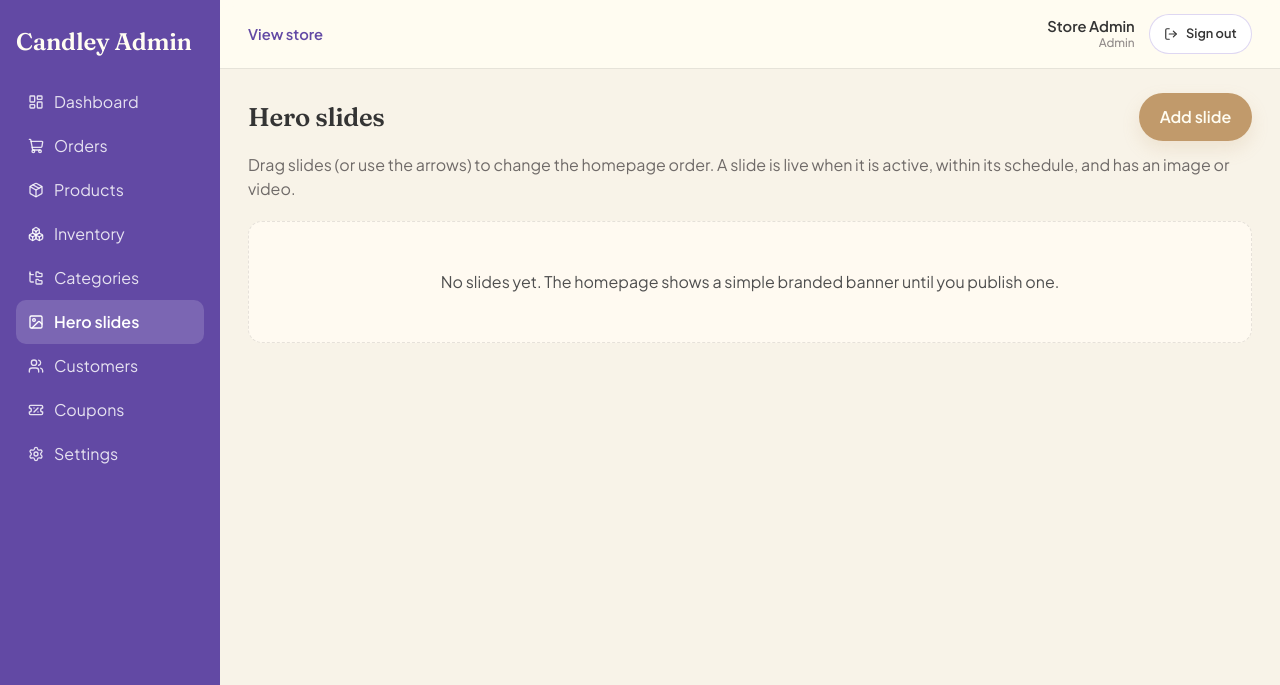
it: admin hero manager › shows backend validation errors
Click the button "Add slide".
click(1195, 117)  # box [1139,93,1252,141]
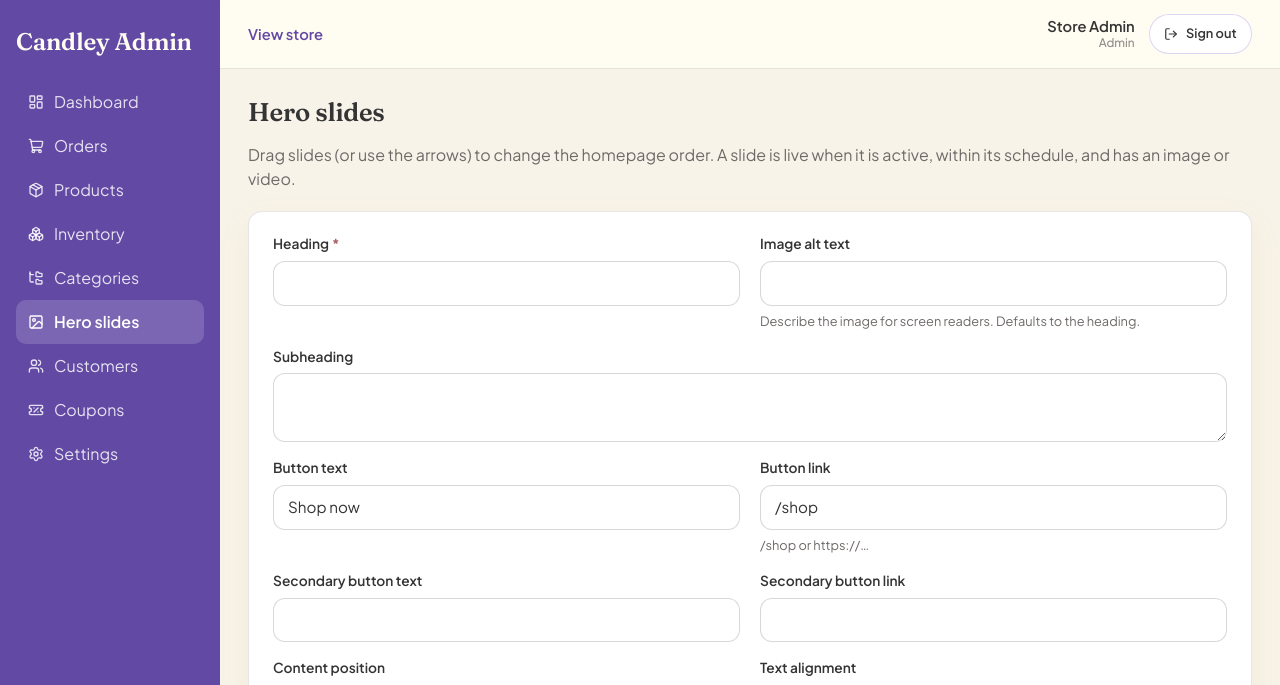
Type "Valid heading" into the field labelled "Heading*".
click(506, 283); type("Valid heading")  # box [273,261,740,306]
(page scrolled)
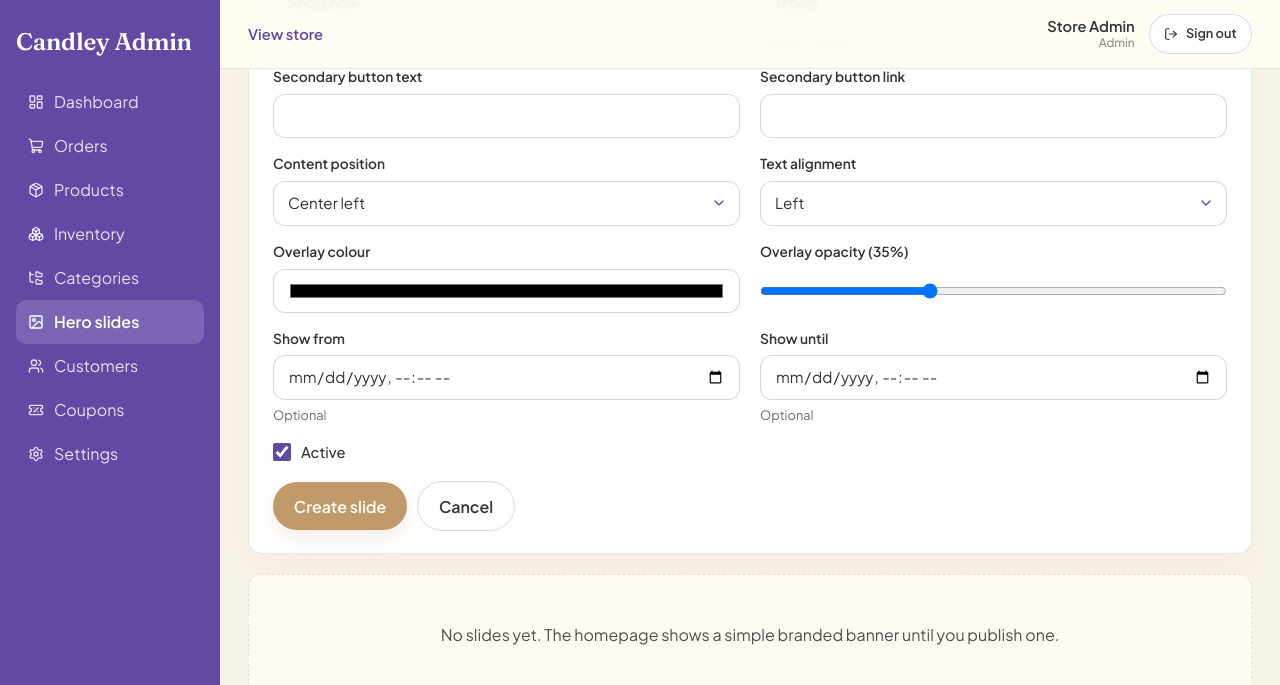
Click the button "Create slide".
click(340, 506)  # box [273,482,407,530]
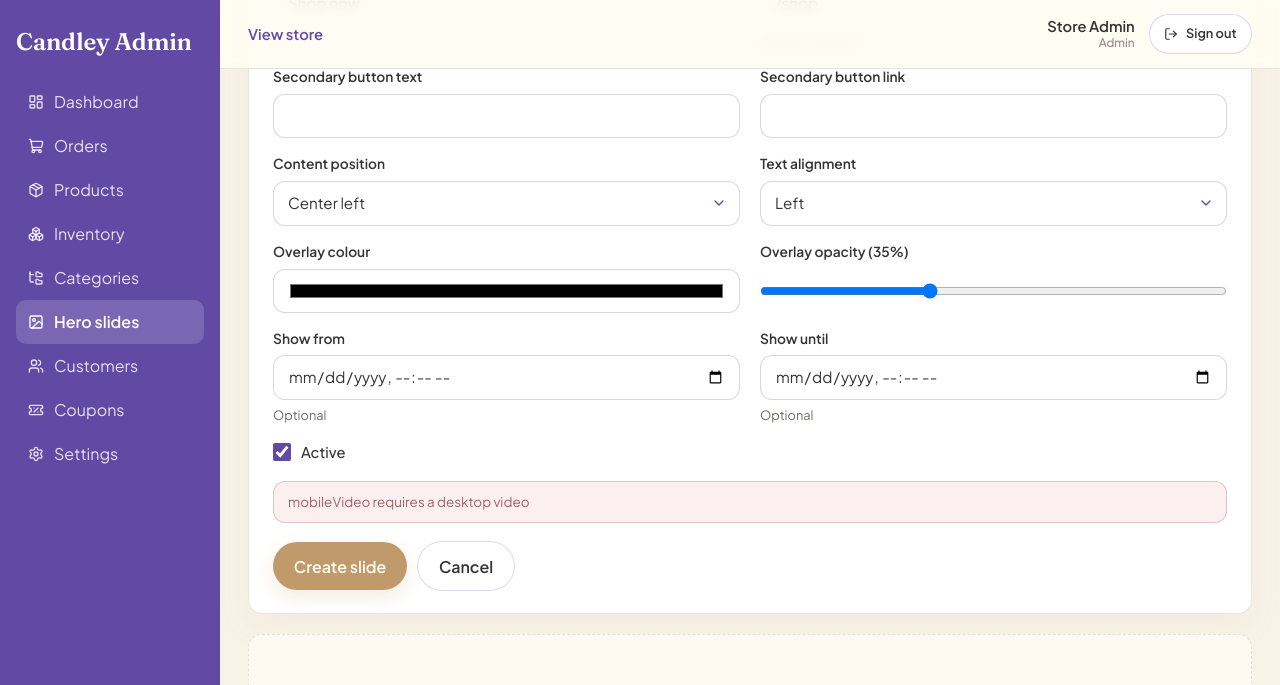
Expected: the message reads "mobileVideo requires a desktop video", [288,493,530,510]
